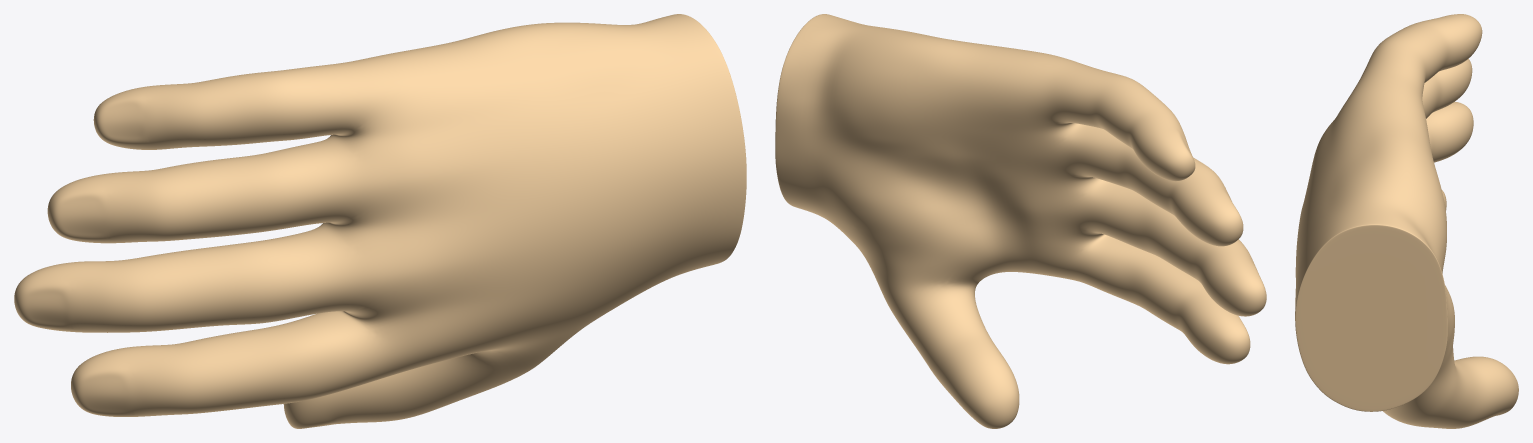
The picture shows the model from 3 angles, left to right: view 1: azimuth 30°, elevation 25°; view 2: azimuth 150°, elevation 25°; view 3: azimuth 270°, elevation 25°; orthographic projection. The views are drawn at different scales.
Parts seen in each view (by area): view 1: 12683_hand_v1_FINAL; view 2: 12683_hand_v1_FINAL; view 3: 12683_hand_v1_FINAL.
Boxes of the visible parts, left/top/right/bottom form: 12683_hand_v1_FINAL: left=14, top=14, right=746, bottom=428; 12683_hand_v1_FINAL: left=775, top=14, right=1266, bottom=428; 12683_hand_v1_FINAL: left=1295, top=14, right=1518, bottom=428.
Size of the model in its own units: 6.96 by 4.43 by 2.71.
